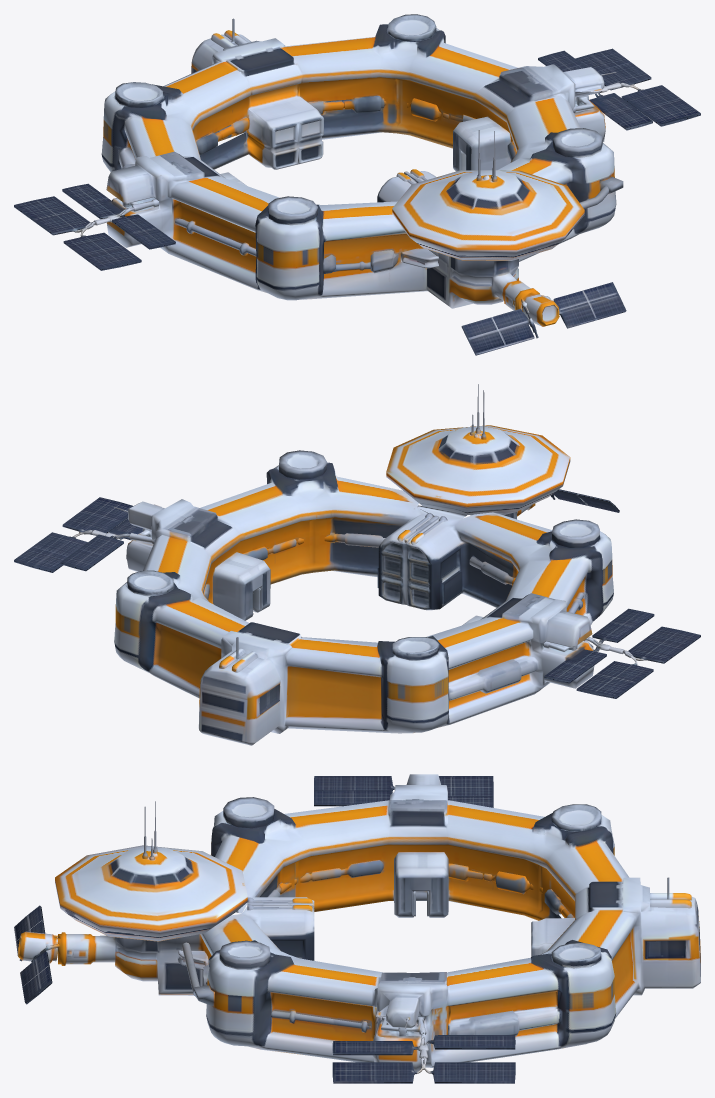
The model's file is station-a.glb.
The picture shows the model from 3 angles, top to bottom: view 1: azimuth 30°, elevation 25°; view 2: azimuth 150°, elevation 25°; view 3: azimuth 270°, elevation 25°; orthographic projection. The views are drawn at different scales.
Parts seen in each view (by area): view 1: tripo_1470a0ba_ea9f_4fe6_a216_3b9bddfe6bc5; view 2: tripo_1470a0ba_ea9f_4fe6_a216_3b9bddfe6bc5; view 3: tripo_1470a0ba_ea9f_4fe6_a216_3b9bddfe6bc5.
Boxes of the visible parts, box(x1,y1,x2,y2) form: tripo_1470a0ba_ea9f_4fe6_a216_3b9bddfe6bc5: box(14, 14, 700, 355); tripo_1470a0ba_ea9f_4fe6_a216_3b9bddfe6bc5: box(14, 384, 700, 745); tripo_1470a0ba_ea9f_4fe6_a216_3b9bddfe6bc5: box(14, 774, 700, 1083).
Size of the model in its own units: 0.9995 by 0.2729 by 0.9497.
1 material, 1 textured.
